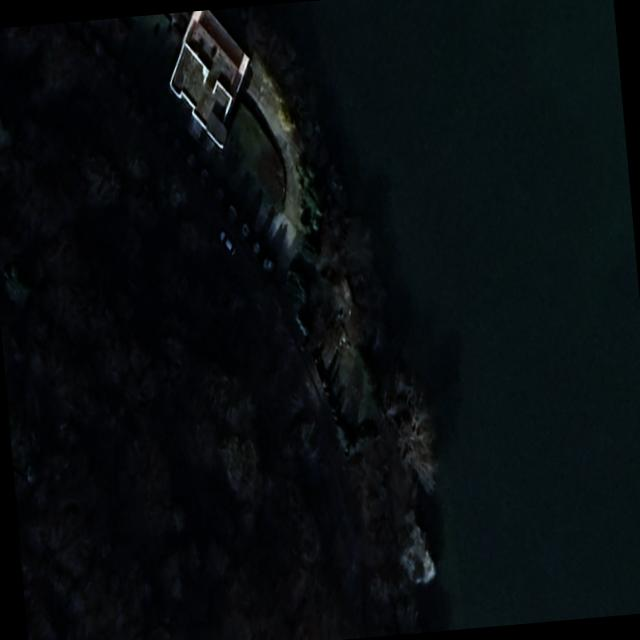building: (49, 21, 382, 637), (154, 12, 244, 174)
grass: (69, 10, 189, 105)
tree: (0, 26, 357, 640), (213, 64, 438, 635)
water: (231, 0, 640, 631)
